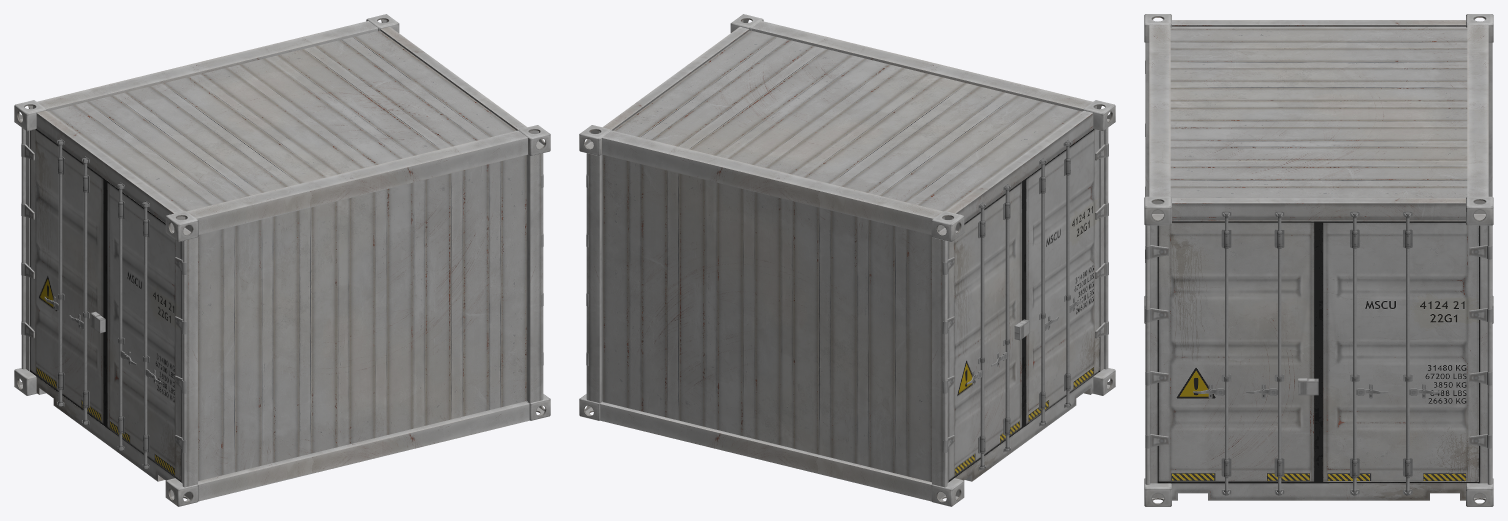
Rendered from HH_Container_02.fbx.
3 views of the same model, side by side, from view 1: azimuth 30°, elevation 25°; view 2: azimuth 150°, elevation 25°; view 3: azimuth 270°, elevation 25° (orthographic). The views are drawn at different scales.
Visible parts, largest first — view 1: HH_Container_02_LOD0, HH_Container_Door_02_LOD0; view 2: HH_Container_02_LOD0, HH_Container_Door_02_LOD0; view 3: HH_Container_02_LOD0.
Part boxes in pixels (x1,y1,x2,y2): HH_Container_02_LOD0: [14, 14, 550, 506]; HH_Container_Door_02_LOD0: [105, 180, 186, 481]; HH_Container_02_LOD0: [579, 14, 1115, 506]; HH_Container_Door_02_LOD0: [1024, 129, 1108, 426]; HH_Container_02_LOD0: [1144, 14, 1493, 506].
Size of what is drawn, in the model's own units: 437 by 316 by 333.
